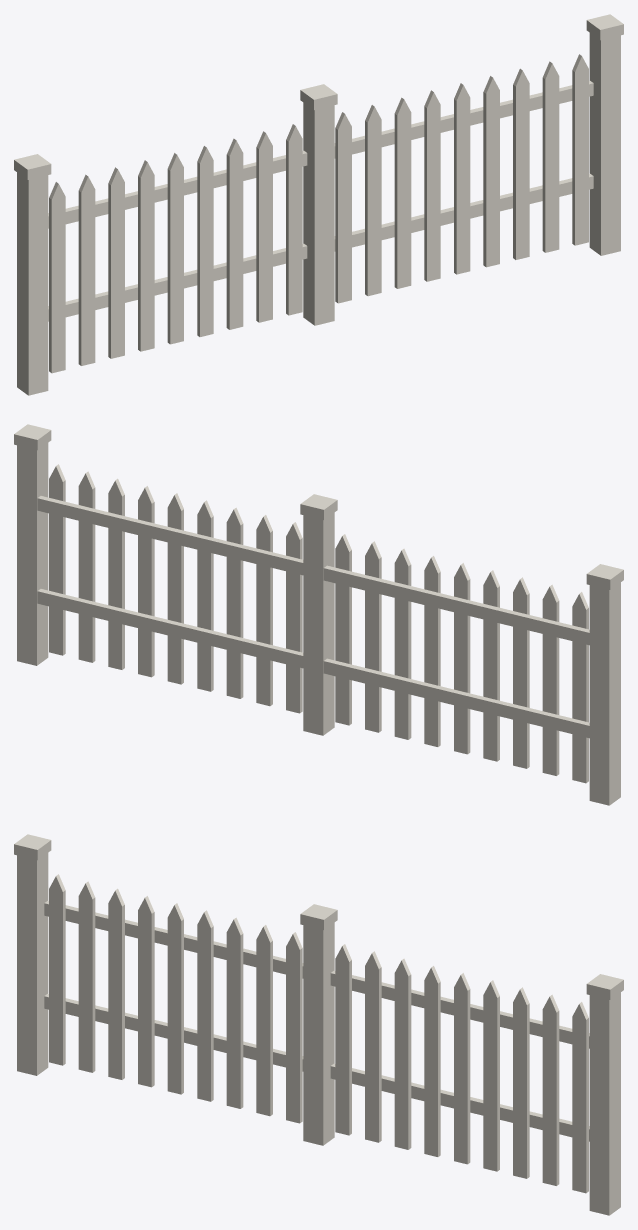
File: picket_fence.glb
3 views of the same model, one above another, from view 1: azimuth 30°, elevation 25°; view 2: azimuth 150°, elevation 25°; view 3: azimuth 330°, elevation 25° (orthographic).
Parts seen in each view (by area): view 1: picket_fence; view 2: picket_fence; view 3: picket_fence.
Boxes of the visible parts, box(x1,y1,x2,y2) form: picket_fence: box(14, 14, 623, 395); picket_fence: box(14, 424, 623, 805); picket_fence: box(14, 834, 623, 1215).
Bounding box in the file's own units: 3.02 × 1.1 × 0.12.
1 material, 1 textured.
